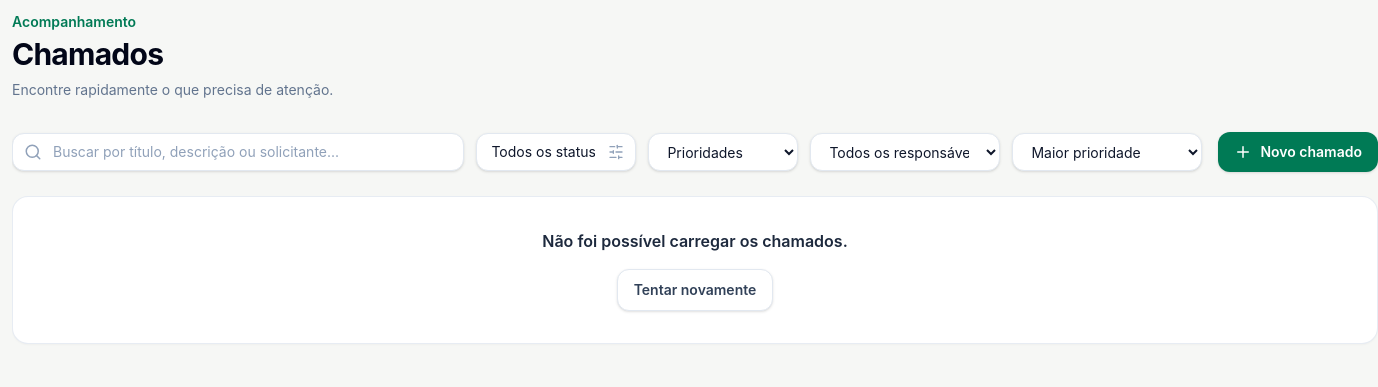
Test case: visões operacionais › exibe erro da listagem e permite tentar novamente
What coordinates should you click on to do the following:
click the button "Tentar novamente"
I would click on:
 (695, 290)
Its box is [617, 269, 773, 311].
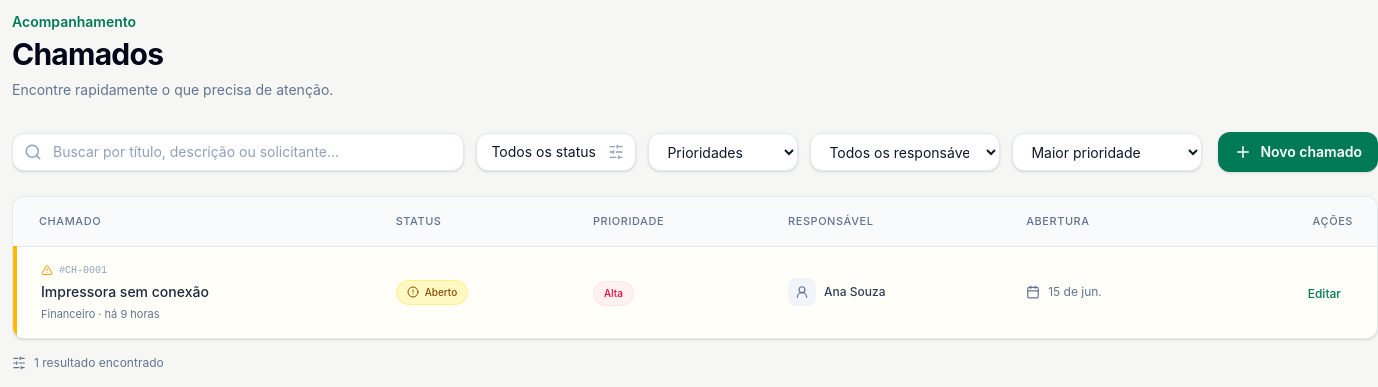
Now the text "Impressora sem conexão" is shown, box [41, 282, 209, 300]
